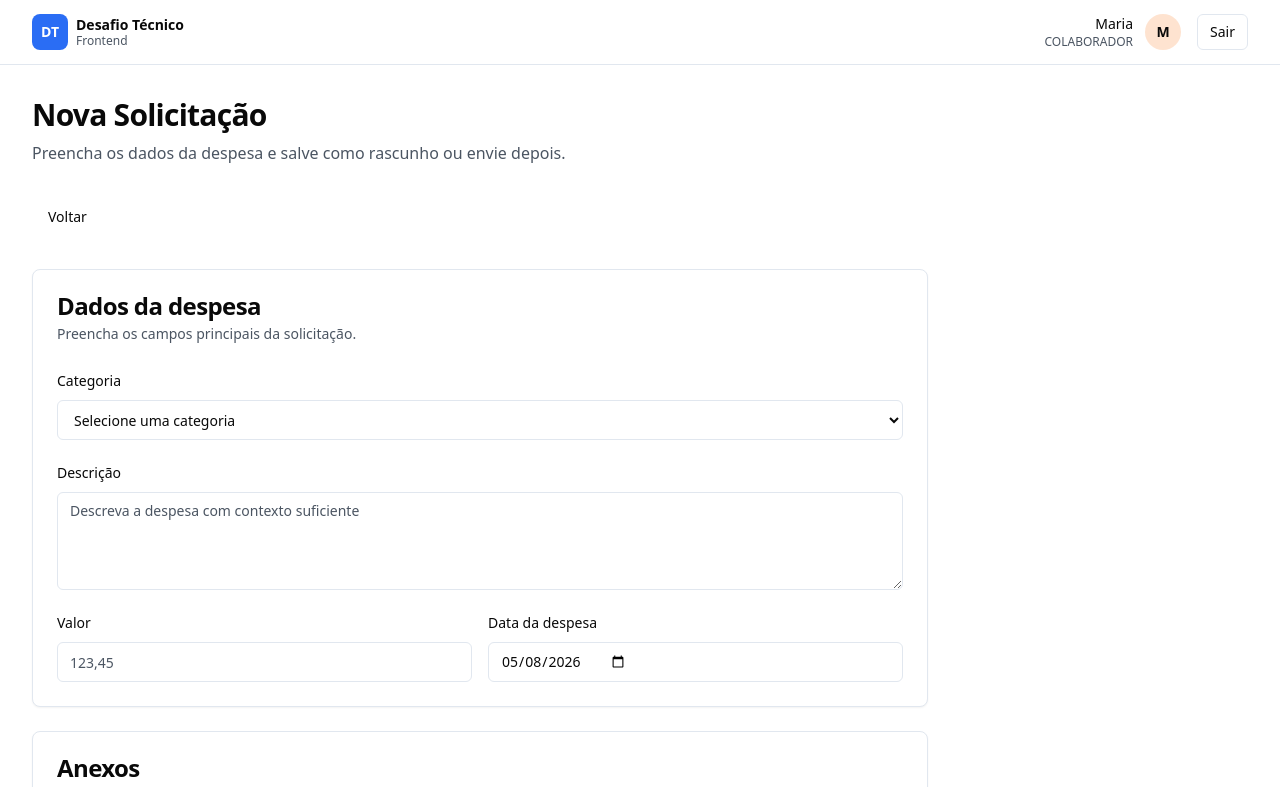
Scenario: ReimbursementFormPage (modo create) › mostra erros de validação Zod quando submete sem preencher
Note: Limpar o campo de data que tem defaultValue
Clear the date field labelled "Data da despesa" at (696, 662), box x1=488 y1=642 x2=903 y2=682
(page scrolled)
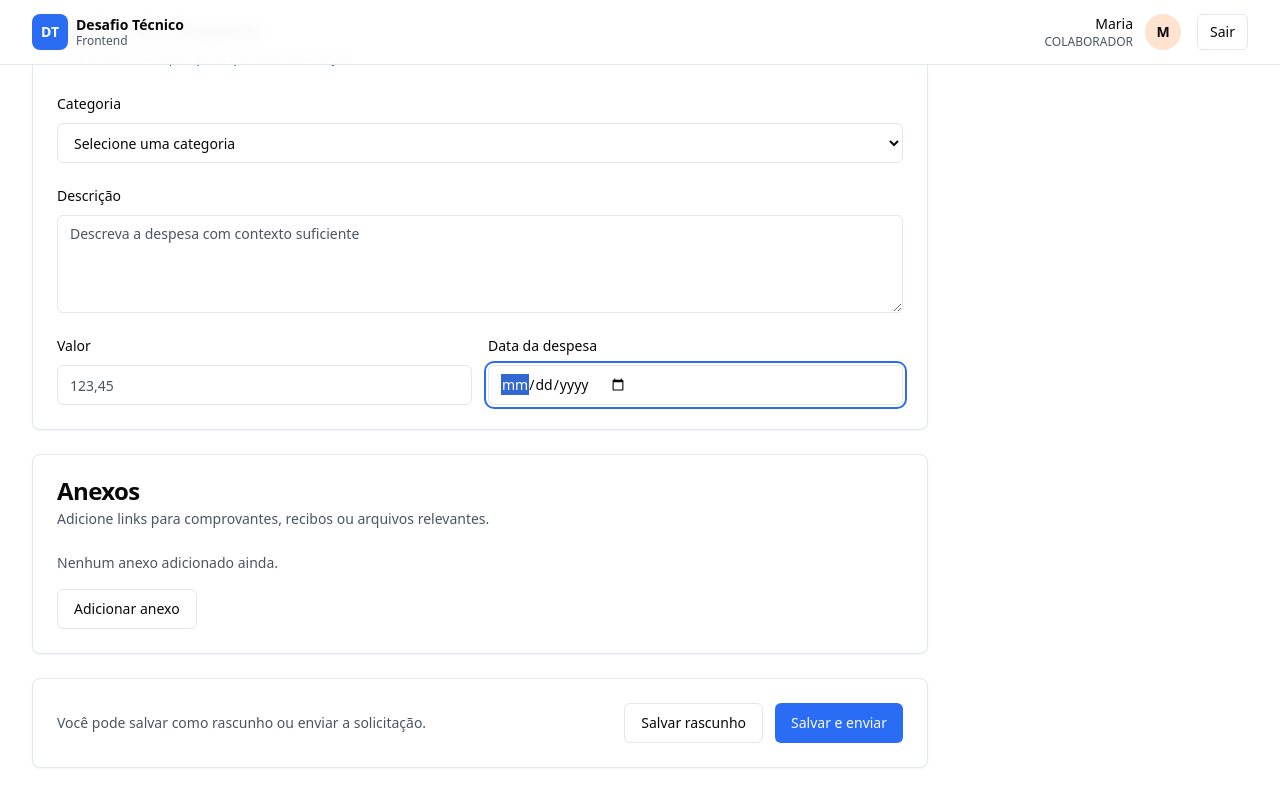
Note: Clica em "Salvar rascunho" para disparar a validação
Click the button "Salvar rascunho" at (694, 723), box x1=624 y1=703 x2=763 y2=743
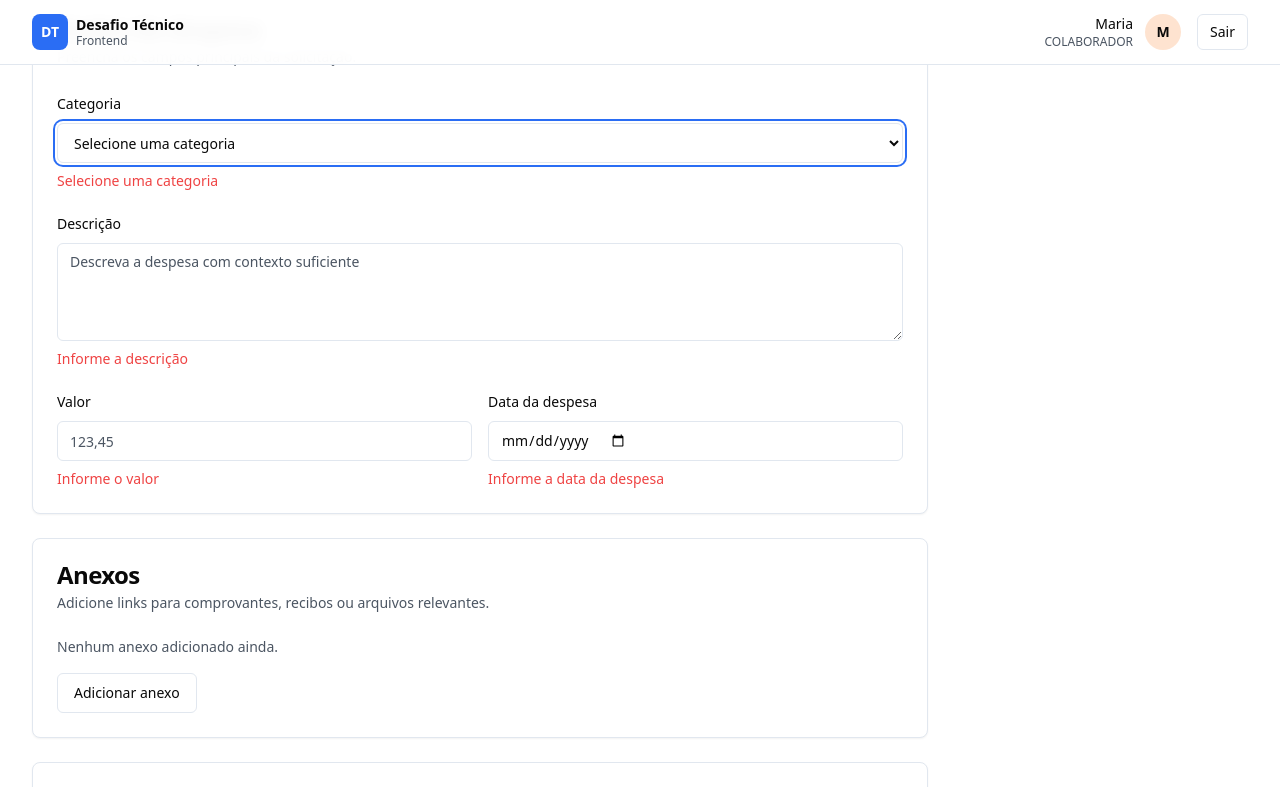
Expected: the text "Informe a descrição" is shown, x1=57 y1=349 x2=188 y2=368
Expected: the text "Informe o valor" is shown, x1=57 y1=469 x2=159 y2=488
